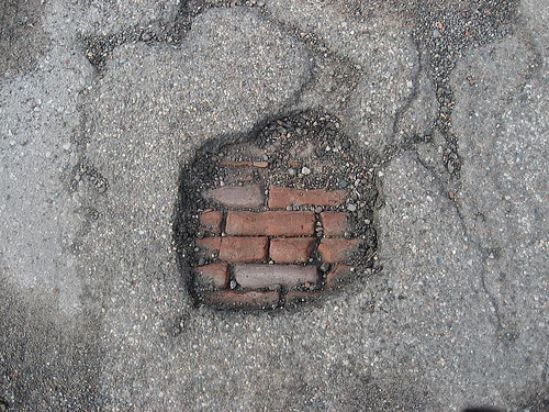pothole: (164, 104, 382, 320)
